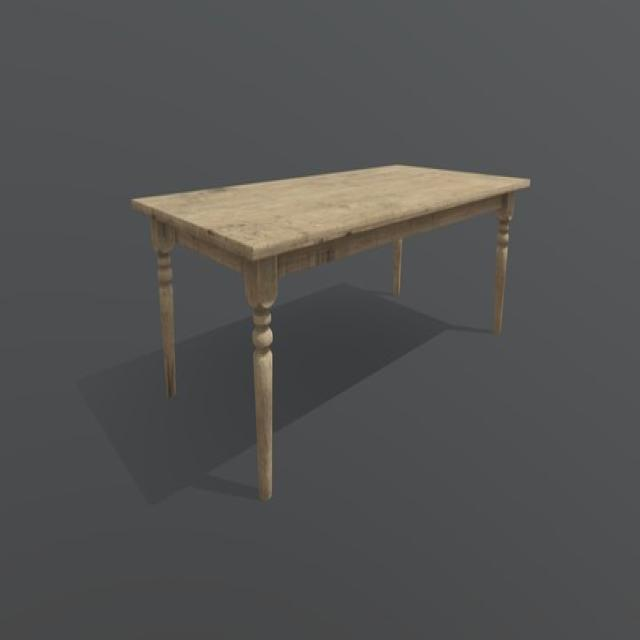table: (130, 161, 530, 501)
